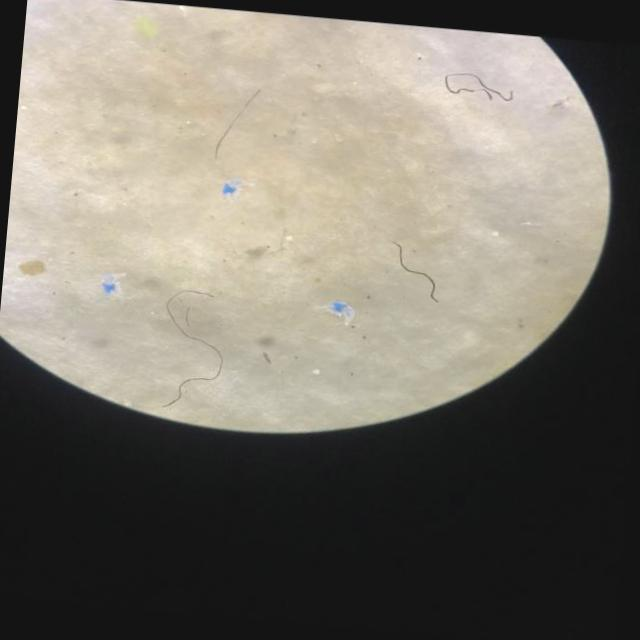fiber: (162, 291, 223, 408), (216, 91, 261, 158), (395, 243, 438, 302), (445, 72, 514, 102)
film: (323, 302, 353, 325), (224, 179, 253, 197), (103, 275, 120, 295)
fragment: (134, 17, 157, 37), (20, 260, 45, 276)
pellet: (286, 236, 293, 241), (313, 369, 319, 374), (493, 232, 497, 236)
